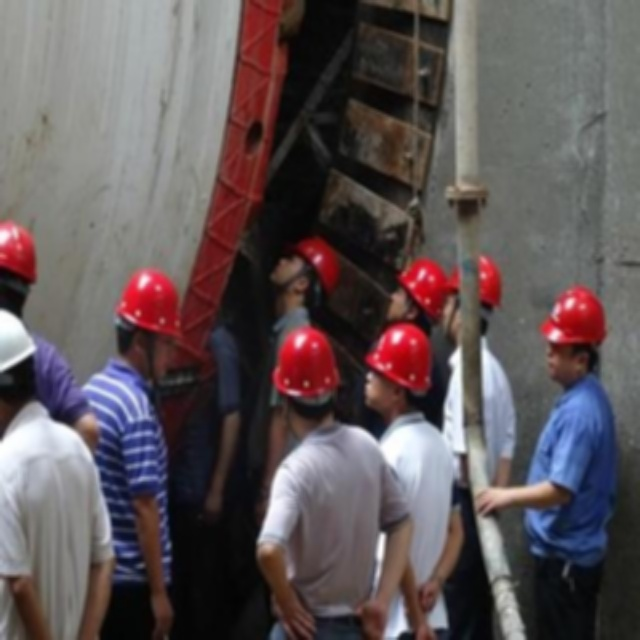Con_Casco: (113, 272, 183, 376), (364, 323, 432, 413), (273, 330, 339, 422)
